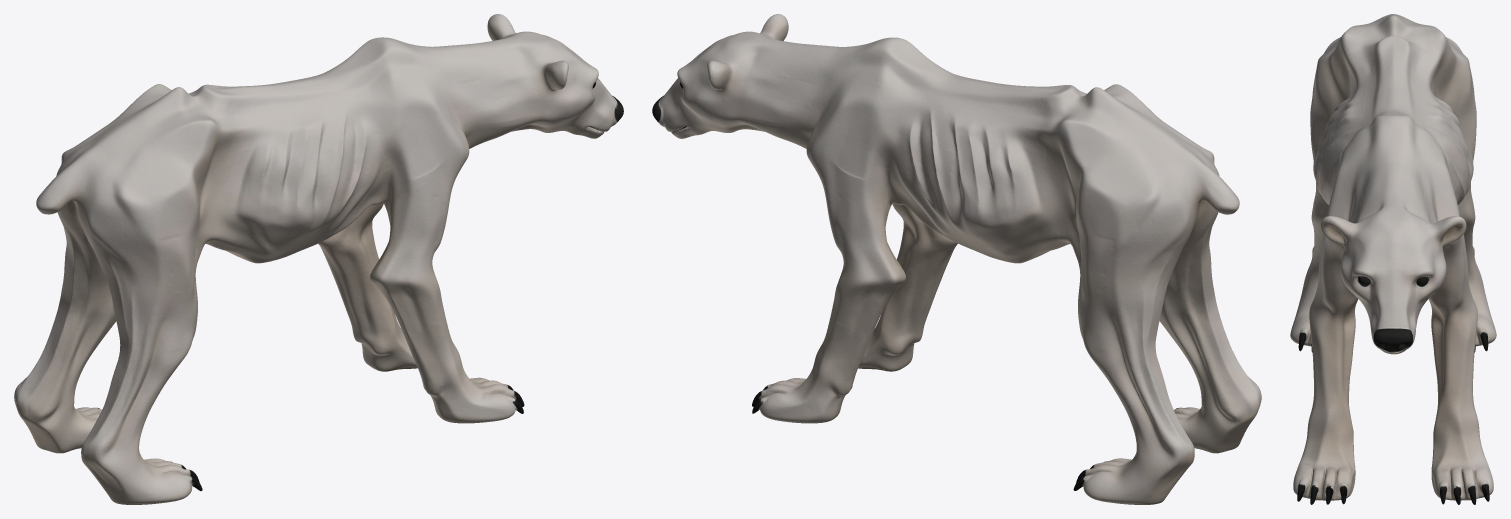
File: polar-bear.glb
3 views of the same model, side by side, from view 1: azimuth 30°, elevation 25°; view 2: azimuth 150°, elevation 25°; view 3: azimuth 270°, elevation 25° (orthographic). The views are drawn at different scales.
Parts seen in each view (by area): view 1: tripo_node_c9681f14-2d89-4fca-b14a-1275e8e2586d; view 2: tripo_node_c9681f14-2d89-4fca-b14a-1275e8e2586d; view 3: tripo_node_c9681f14-2d89-4fca-b14a-1275e8e2586d.
Boxes of the visible parts, x1,y1,x2,y2 form: tripo_node_c9681f14-2d89-4fca-b14a-1275e8e2586d: (14, 14, 623, 504); tripo_node_c9681f14-2d89-4fca-b14a-1275e8e2586d: (652, 14, 1261, 504); tripo_node_c9681f14-2d89-4fca-b14a-1275e8e2586d: (1290, 14, 1496, 504).
Bounding box in the file's own units: 1 × 0.6015 × 0.3206.
Materials: 1 (1 with a texture image).
